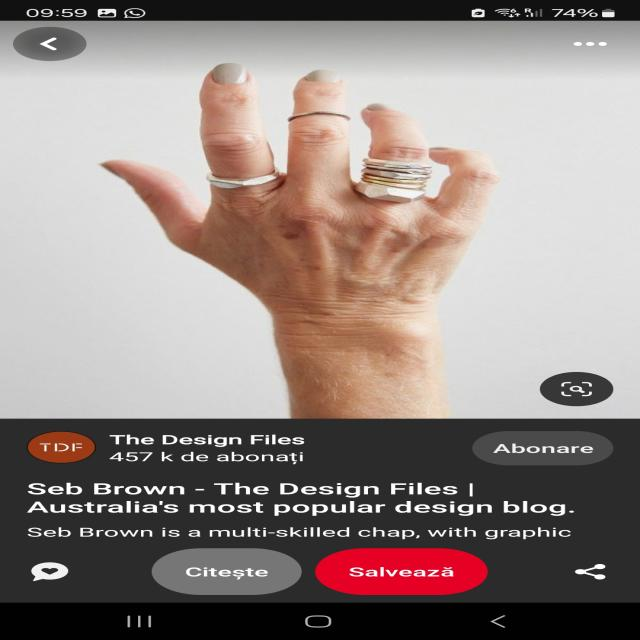hands: (83, 39, 580, 386)
